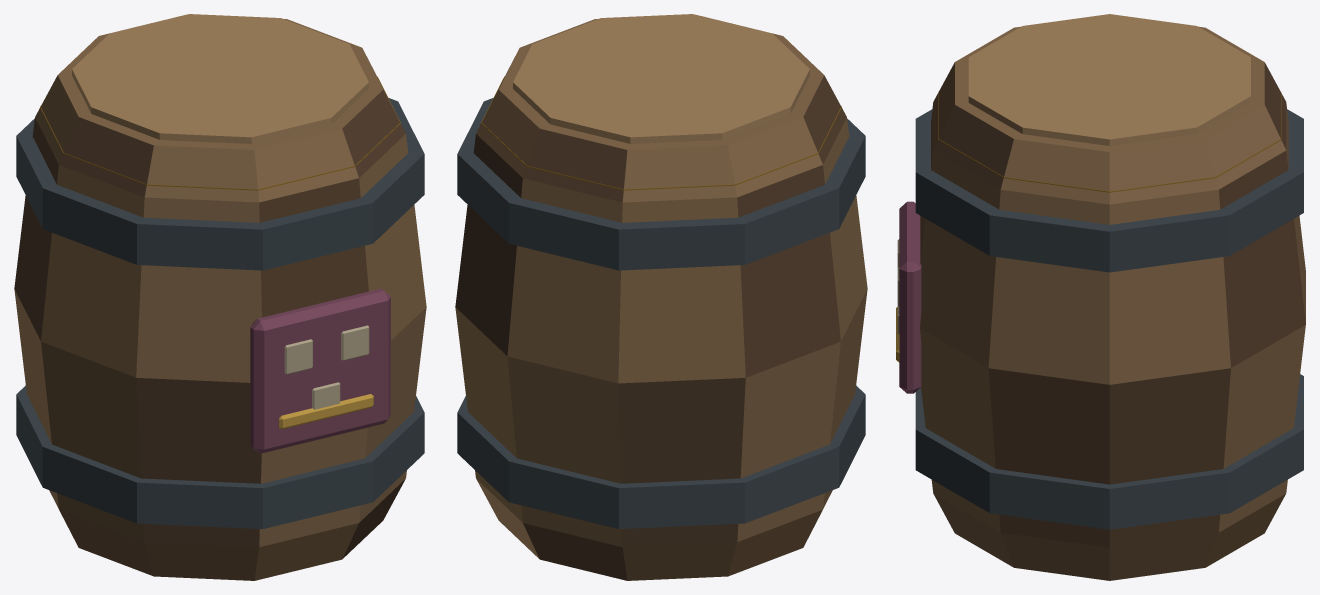
Rendered from vintage_wine_barrel.glb.
The picture shows the model from 3 angles, left to right: view 1: azimuth 30°, elevation 25°; view 2: azimuth 150°, elevation 25°; view 3: azimuth 270°, elevation 25°; orthographic projection.
Parts seen in each view (by area): view 1: vintage_wine_barrel; view 2: vintage_wine_barrel; view 3: vintage_wine_barrel.
Boxes of the visible parts, x1,y1,x2,y2 form: vintage_wine_barrel: (14, 14, 426, 580); vintage_wine_barrel: (455, 14, 867, 580); vintage_wine_barrel: (896, 14, 1305, 580).
Bounding box in the file's own units: 0.68 × 0.792 × 0.6757.
